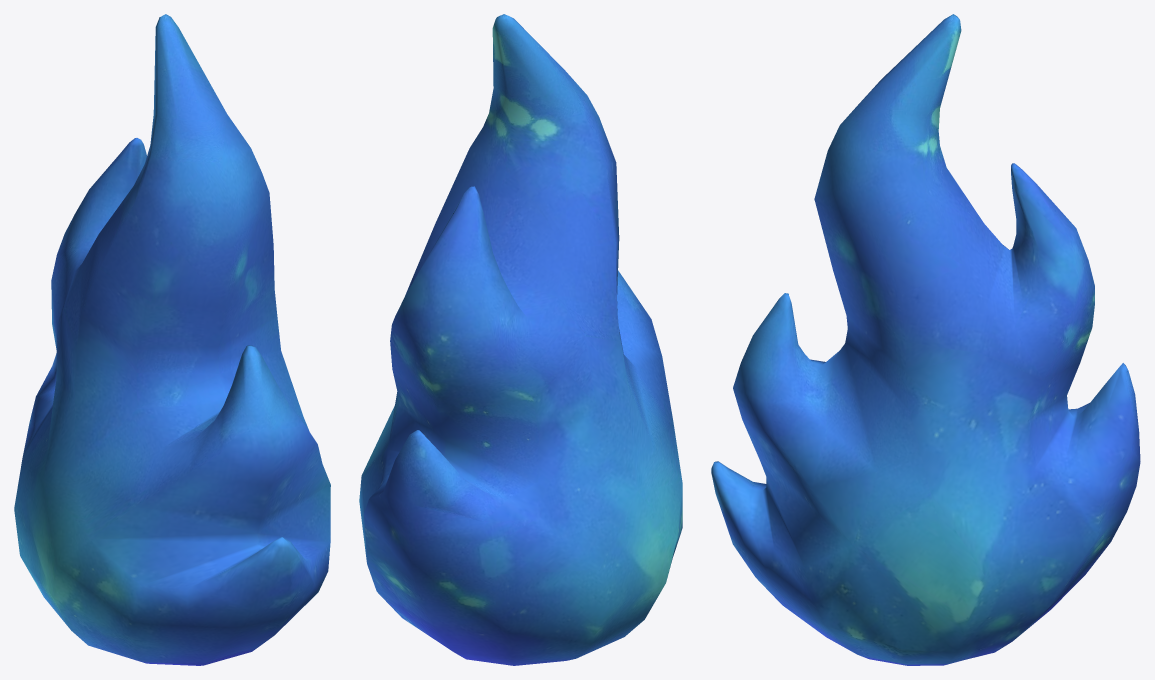
File: eternal_flame.glb
3 renders of one model, left to right at view 1: azimuth 30°, elevation 25°; view 2: azimuth 150°, elevation 25°; view 3: azimuth 270°, elevation 25°, orthographic. The views are drawn at different scales.
Visible parts, largest first — view 1: tripo_node_e634ddc1-d323-4a58-a9ee-1d510a399fd4; view 2: tripo_node_e634ddc1-d323-4a58-a9ee-1d510a399fd4; view 3: tripo_node_e634ddc1-d323-4a58-a9ee-1d510a399fd4.
Boxes of the visible parts, left/top/right/bottom form: tripo_node_e634ddc1-d323-4a58-a9ee-1d510a399fd4: left=14, top=14, right=330, bottom=665; tripo_node_e634ddc1-d323-4a58-a9ee-1d510a399fd4: left=359, top=14, right=682, bottom=665; tripo_node_e634ddc1-d323-4a58-a9ee-1d510a399fd4: left=711, top=14, right=1140, bottom=665.
Bounding box in the file's own units: 0.4512 × 0.998 × 0.627.
1 material, 1 textured.
